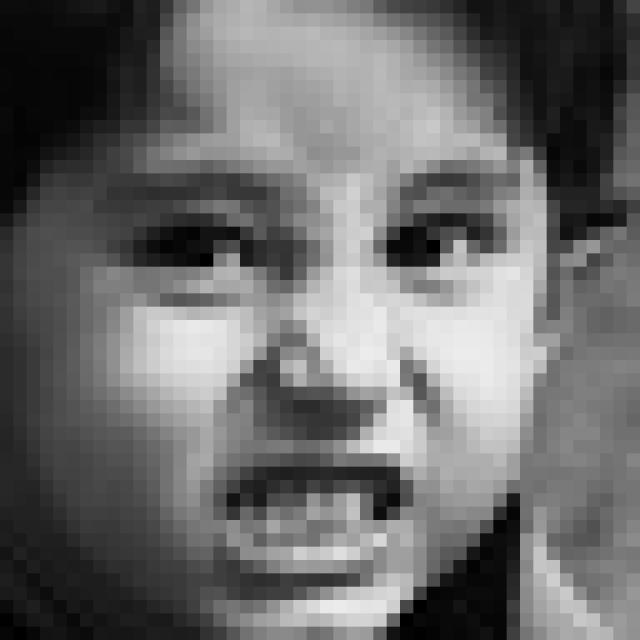angry: (96, 160, 526, 592)
